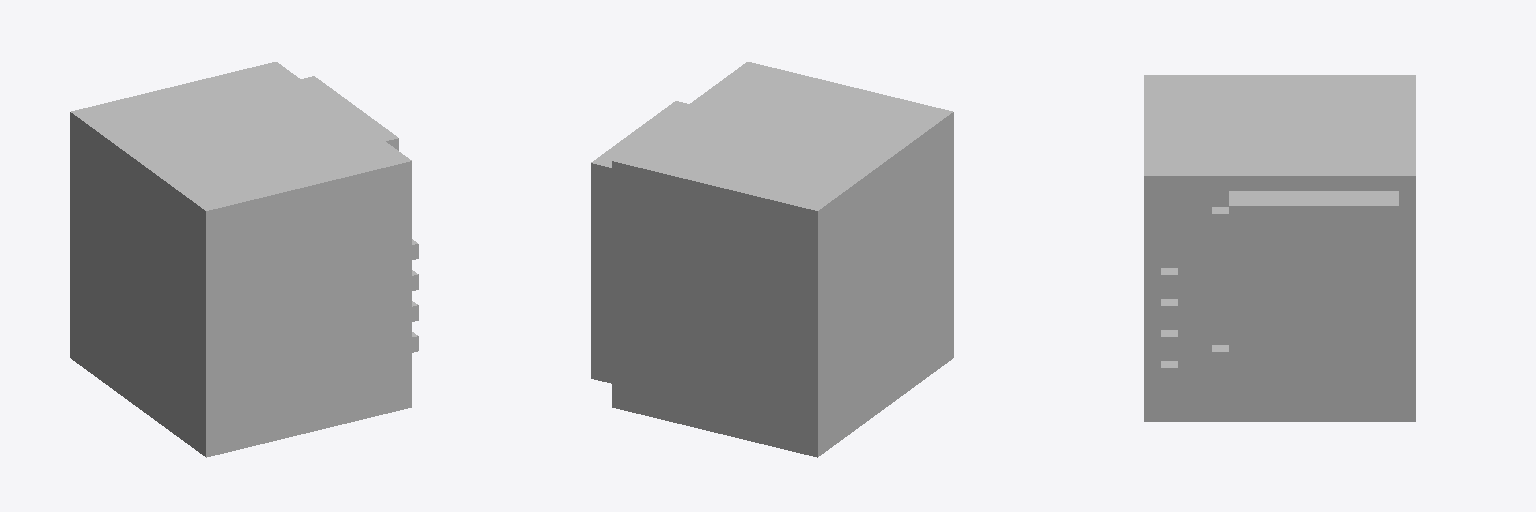
The model's file is furnace.obj.
The picture shows the model from 3 angles: view 1: azimuth 30°, elevation 25°; view 2: azimuth 150°, elevation 25°; view 3: azimuth 270°, elevation 25°; orthographic projection.
Parts seen in each view (by area): view 1: Furnace_Tri_Cube.015; view 2: Furnace_Tri_Cube.015; view 3: Furnace_Tri_Cube.015.
Part boxes in pixels (x1,y1,x2,y2): Furnace_Tri_Cube.015: (70,62,418,457); Furnace_Tri_Cube.015: (591,62,953,457); Furnace_Tri_Cube.015: (1144,75,1415,421).
Bounding box in the file's own units: 1 × 1 × 1.